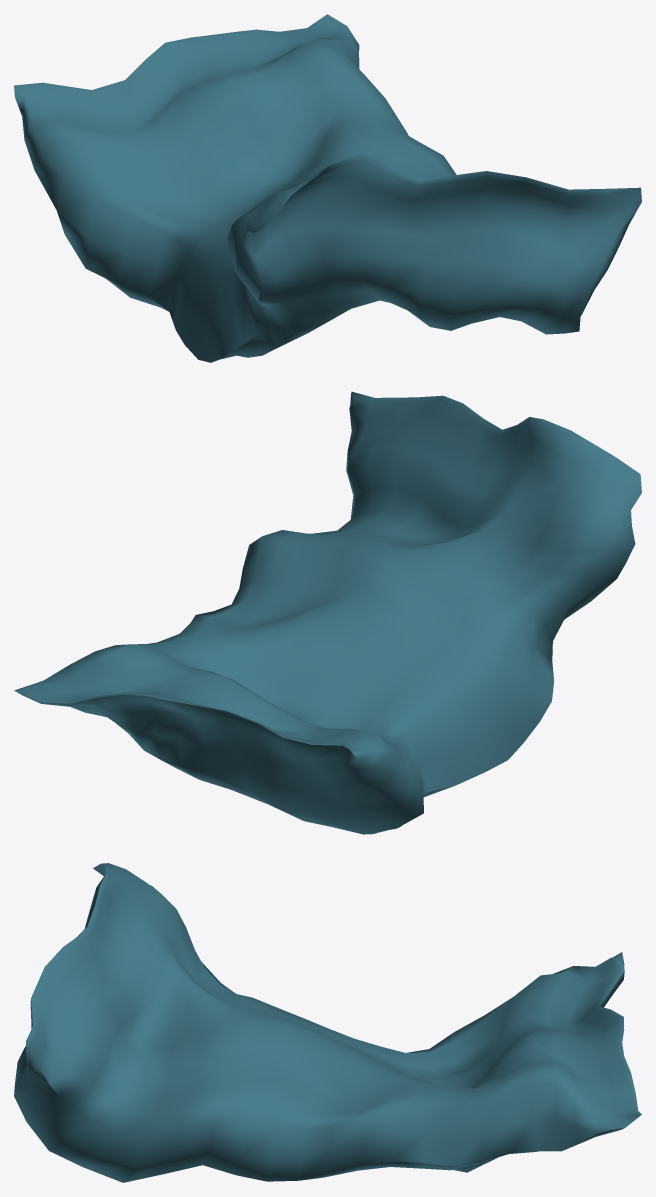
The model's file is SM_SmallTrashkit_snacks2_003.fbx.
The picture shows the model from 3 angles, top to bottom: view 1: azimuth 30°, elevation 25°; view 2: azimuth 150°, elevation 25°; view 3: azimuth 270°, elevation 25°; orthographic projection. The views are drawn at different scales.
Parts seen in each view (by area): view 1: SM_SmallTrashkit_snacks2_003; view 2: SM_SmallTrashkit_snacks2_003; view 3: SM_SmallTrashkit_snacks2_003.
Boxes of the visible parts, x1,y1,x2,y2 form: SM_SmallTrashkit_snacks2_003: [14, 14, 641, 362]; SM_SmallTrashkit_snacks2_003: [14, 391, 641, 834]; SM_SmallTrashkit_snacks2_003: [14, 863, 641, 1182].
Bounding box in the file's own units: 22.12 × 16.09 × 34.34.
